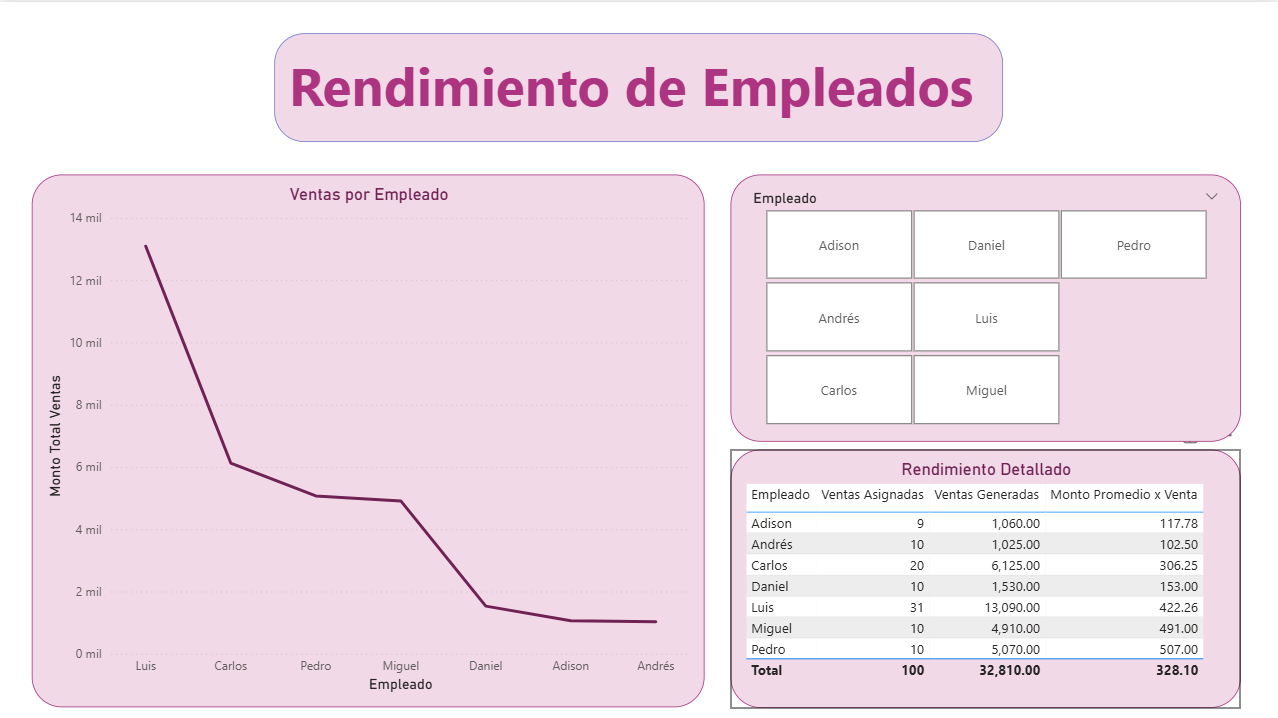

This screenshot's page, from the dashboard's own definition file:
{"tool":"powerbi","page":{"name":"Rendimiento de empleados","canvas":[1280,720],"ordinal":3},"visuals":[{"type":"textbox","box":[275.7,31.4,728.6,108.6],"z":0},{"type":"lineChart","title":"Ventas por Empleado ","fields":{"Category":["V_VentasPorEmpleado.EmpleadoNombre"],"Y":["V_VentasPorEmpleado.MontoTotalVentasGeneradas"]},"box":[34.3,172.9,672.9,532.9],"z":1000},{"type":"tableEx","title":"Rendimiento Detallado","fields":{"Values":["V_VentasPorEmpleado.EmpleadoNombre","V_VentasPorEmpleado.NumeroDeVentasAsignadas","V_VentasPorEmpleado.MontoTotalVentasGeneradas","V_VentasPorEmpleado.Monto Promedio por Venta Empleado"]},"box":[732.9,447.1,510,258.6],"z":2000},{"type":"slicer","fields":{"Values":["V_VentasPorEmpleado.EmpleadoNombre"]},"box":[732.9,172.9,510,267.1],"z":3000}]}

Visuals, with their boxes in screenshot pixels (x1, y1, x2, y2), scaled from the page's 1280x720 canvas onto the 1278x718 screenshot:
textbox: box=[275, 31, 1003, 140]
"Ventas por Empleado " lineChart: box=[34, 172, 706, 704]
"Rendimiento Detallado" tableEx: box=[732, 446, 1241, 704]
slicer - V_VentasPorEmpleado.EmpleadoNombre: box=[732, 172, 1241, 439]
